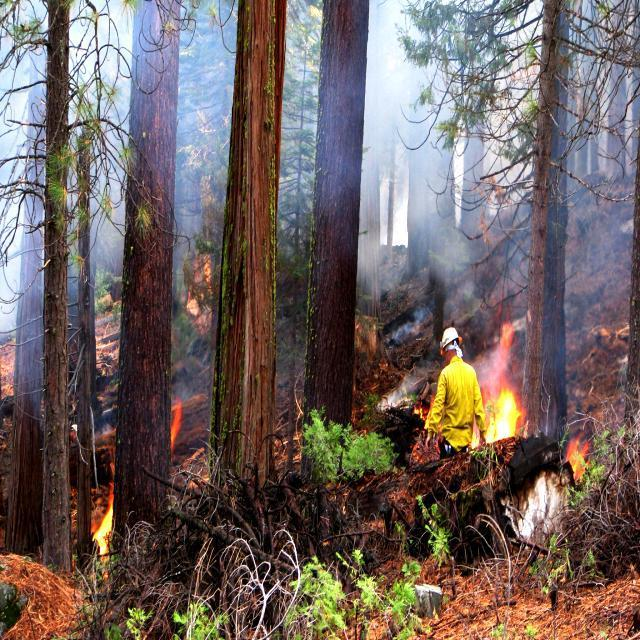Fire: (484, 304, 530, 452), (82, 478, 116, 565), (558, 430, 593, 492)
Smoke: (360, 0, 592, 286)
